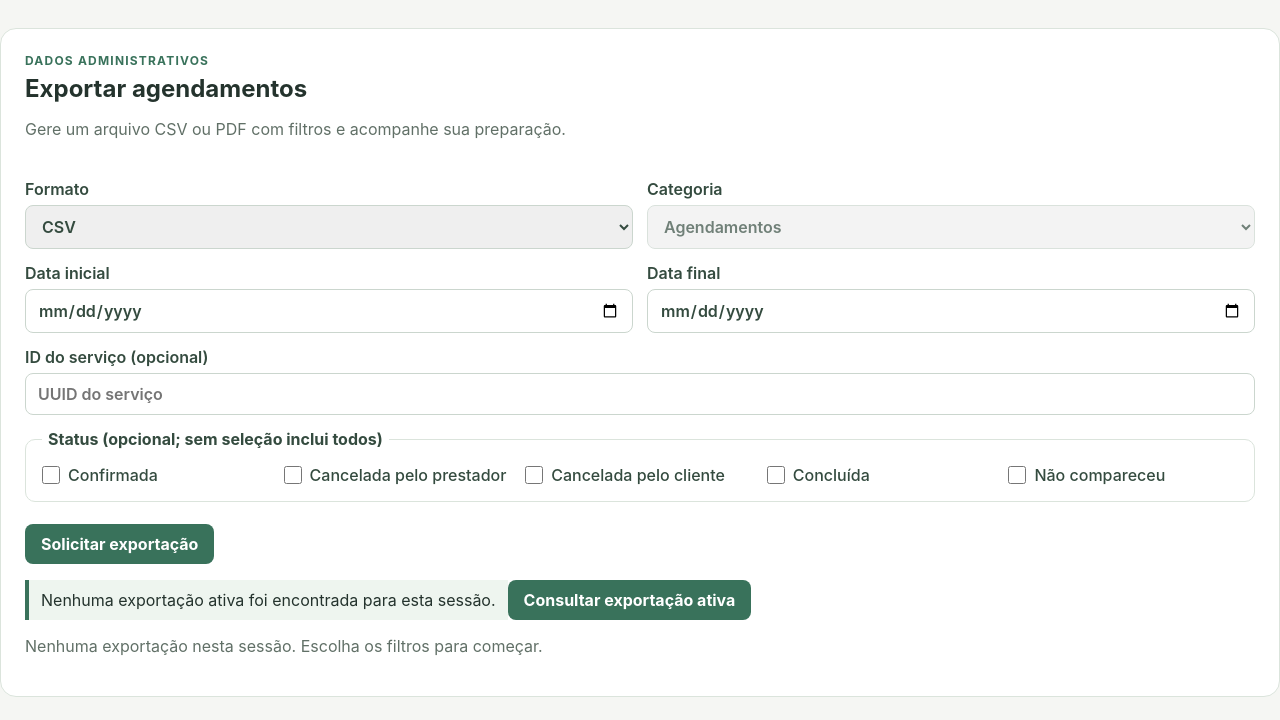
Test: ExportCenter DOM interactions › queries /active after EXPORT_ALREADY_ACTIVE and follows the discovered job
This screenshot has width=1280, height=720.
Type "2026-10-01" into the date field labelled "Data inicial".
click(329, 311); type("2026-10-01")  # box [25,289,633,333]
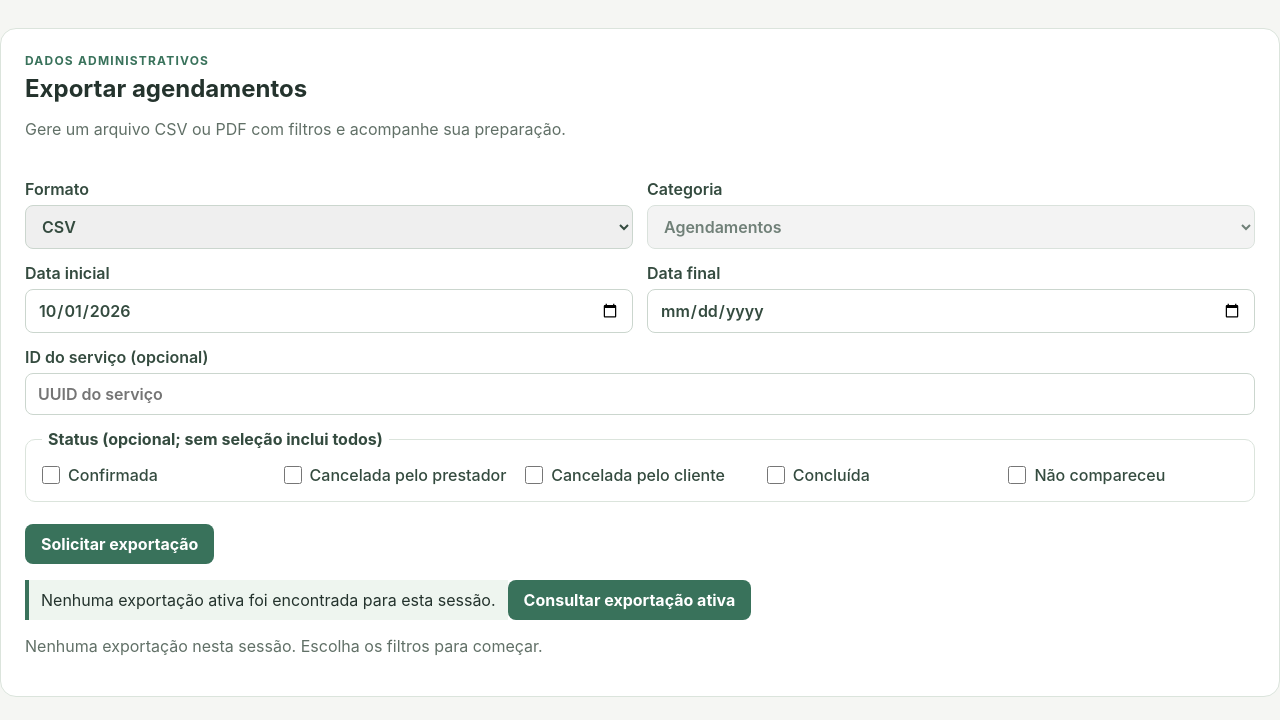
Type "2026-10-23" into the date field labelled "Data final".
click(951, 311); type("2026-10-23")  # box [647,289,1255,333]
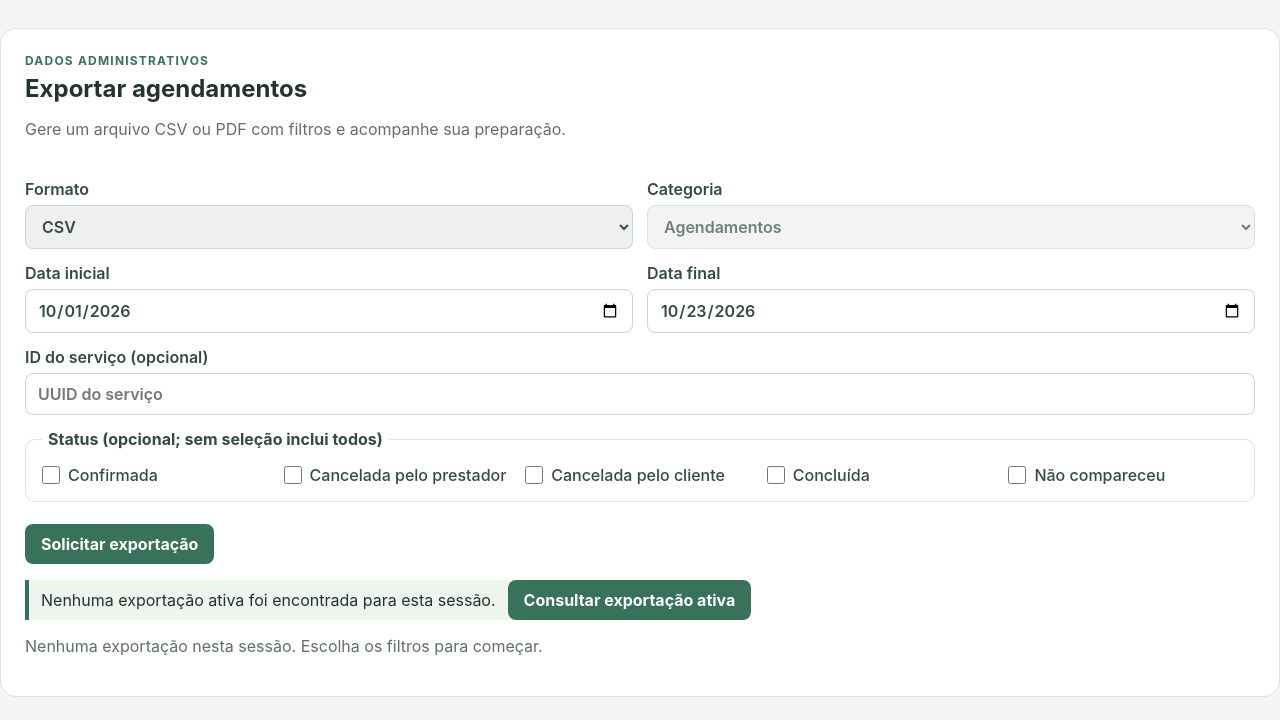
Click the button "Solicitar exportação".
click(120, 544)  # box [25,524,214,564]
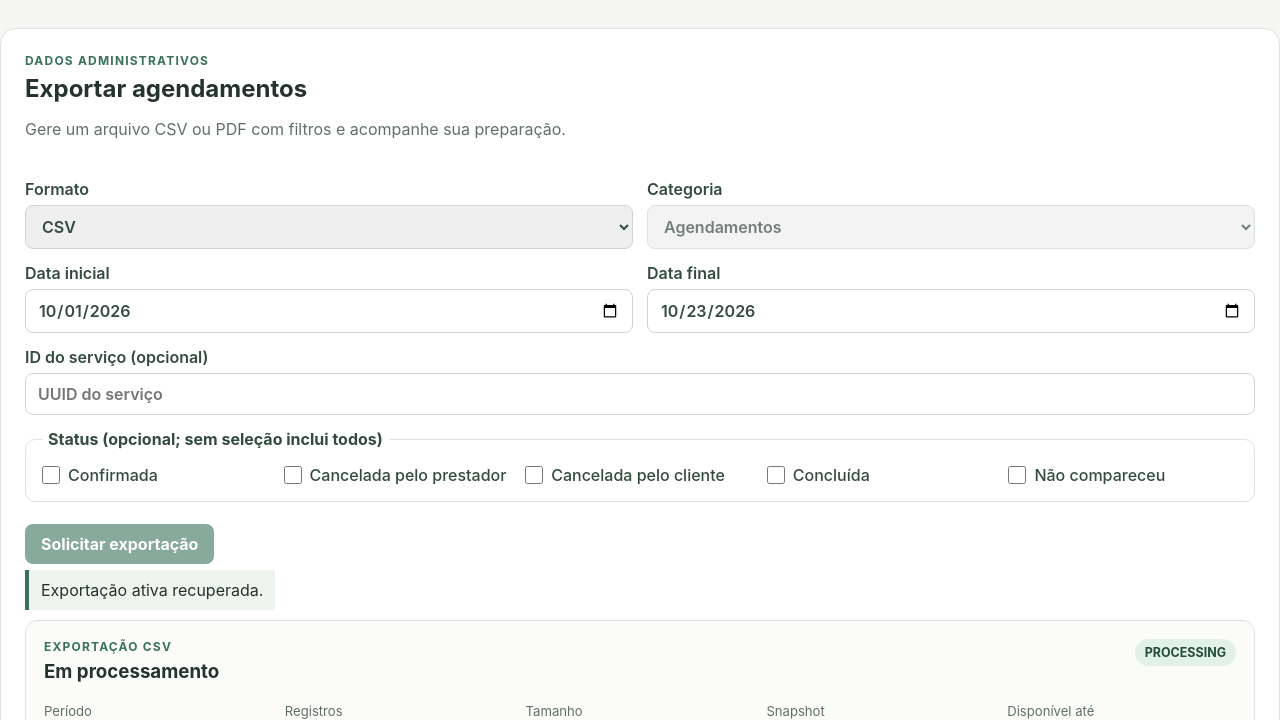
Expected: the text "Em processamento" is shown, [44,660,219,683]
Expected: the button "Solicitar exportação" is disabled, [25,524,214,564]
